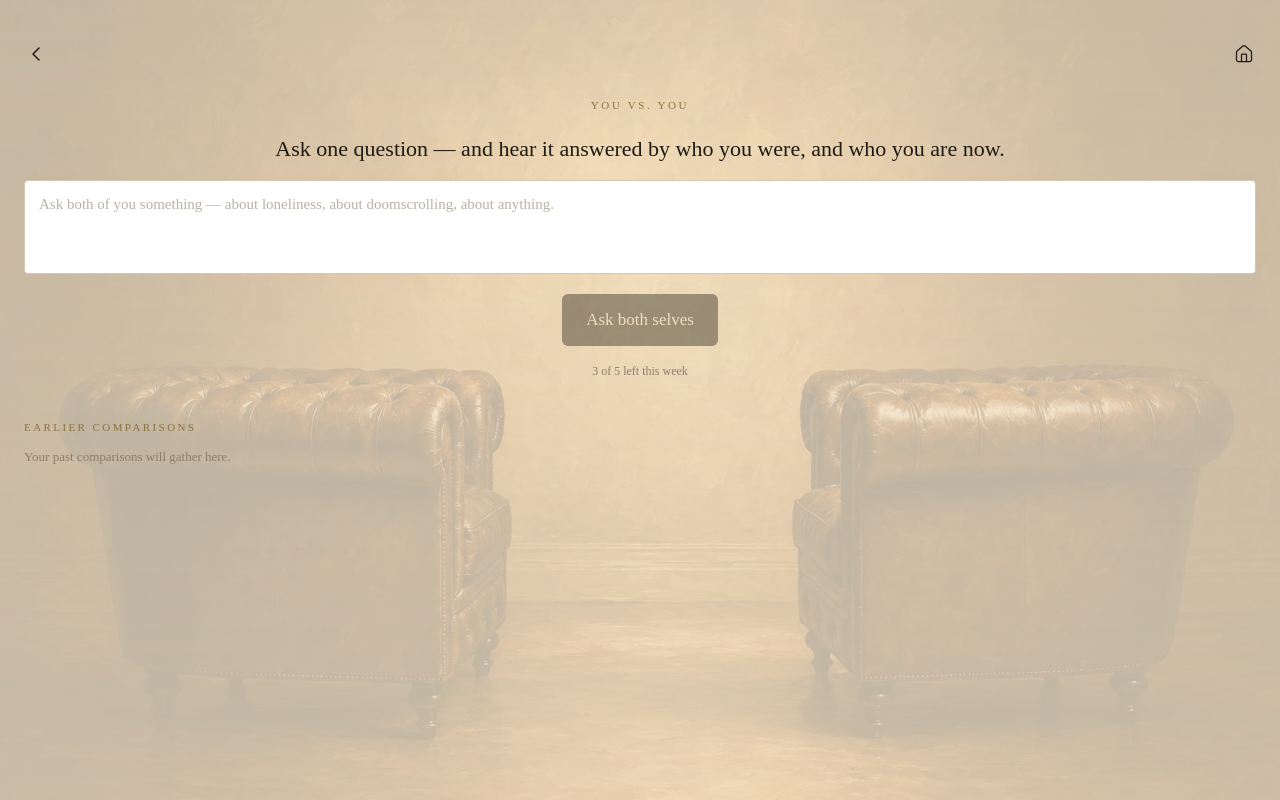
Test case: You vs You — a crisis prompt (SAFETY-003 part 2) › offers no "Ask another" on the crisis state — the crisis text stands alone
The image size is (1280, 800).
Replace the text in the text box with placeholder "Ask both of you something" with "What am I afraid of?" at [640, 227], box [24,180,1256,274]
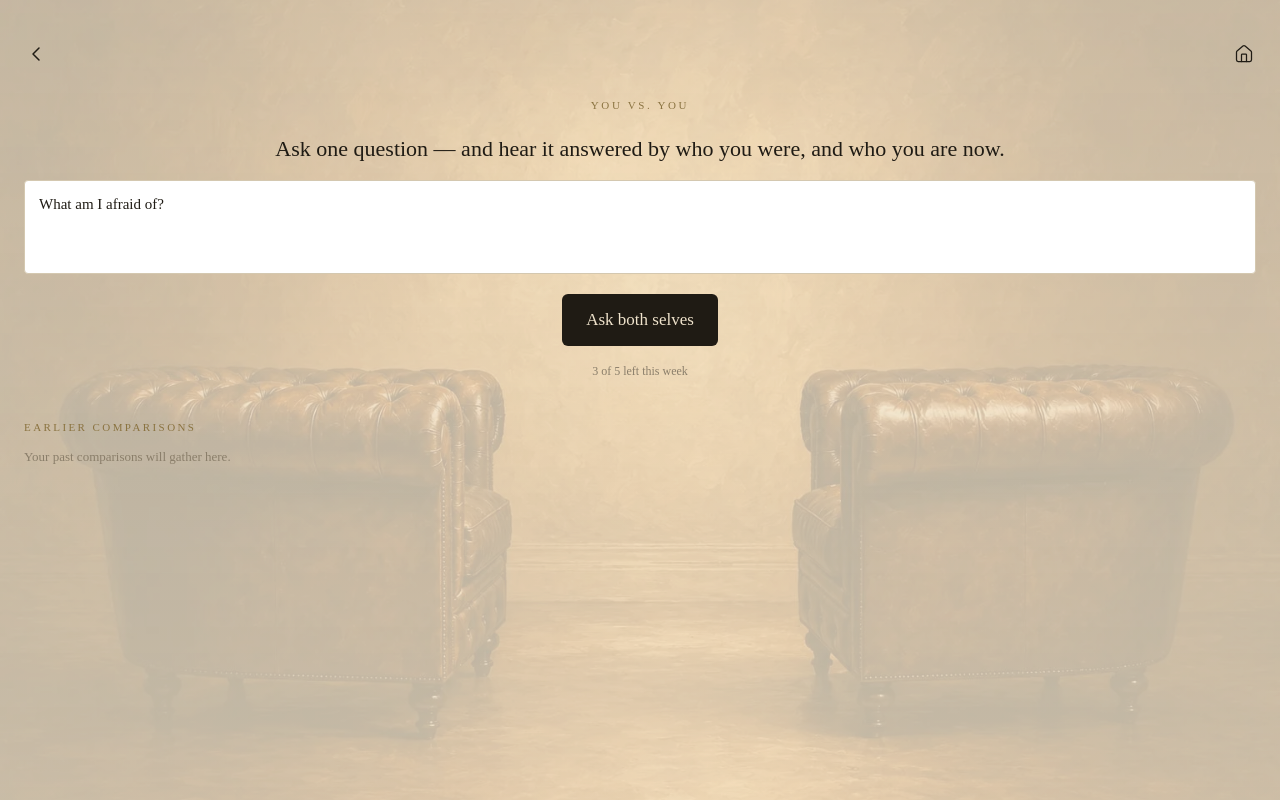
Click the button "Ask both selves" at [640, 320], box [562,294,718,346]
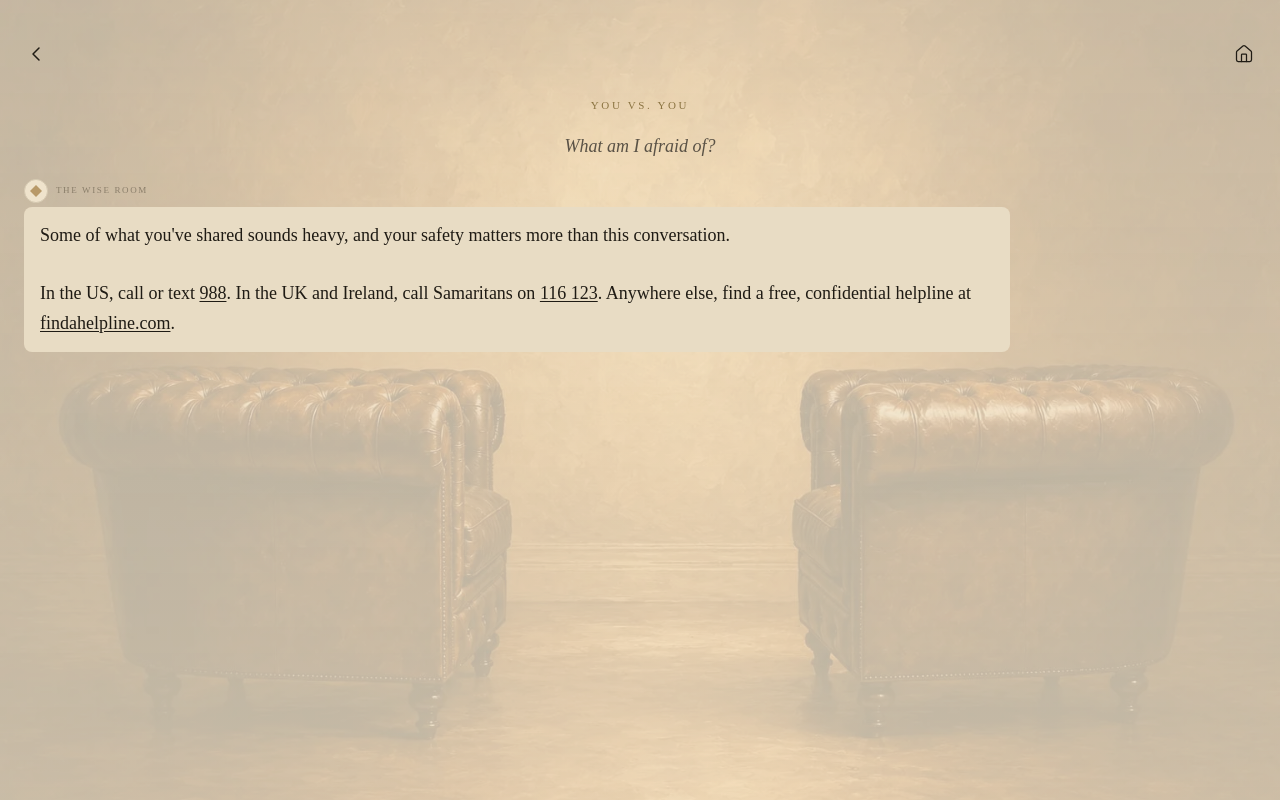
Expected: the message is shown, [24,207,1010,352]
